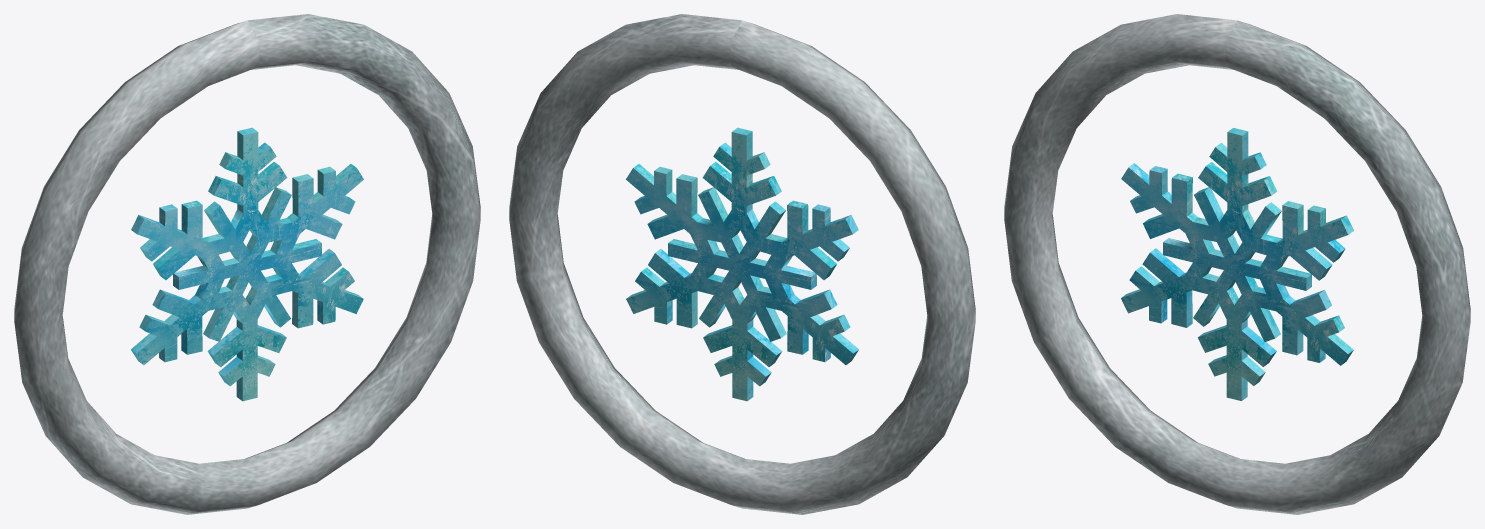
The model's file is ice.FBX.
The picture shows the model from 3 angles, left to right: view 1: azimuth 30°, elevation 25°; view 2: azimuth 150°, elevation 25°; view 3: azimuth 330°, elevation 25°; orthographic projection.
Visible parts, largest first — view 1: circle, ice; view 2: circle, ice; view 3: circle, ice.
Boxes of the visible parts, x1=… form: circle: x1=14, y1=14, x2=480, y2=514; ice: x1=131, y1=127, x2=363, y2=401; circle: x1=509, y1=14, x2=975, y2=514; ice: x1=626, y1=127, x2=858, y2=401; circle: x1=1004, y1=14, x2=1470, y2=514; ice: x1=1121, y1=128, x2=1353, y2=400.
Bounding box in the file's own units: 137 × 137 × 12.12.
